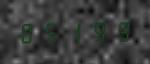five: (41, 20, 63, 44)
nine: (87, 19, 109, 43), (110, 19, 132, 42)
one: (64, 20, 86, 43)
zero: (18, 20, 40, 44)
